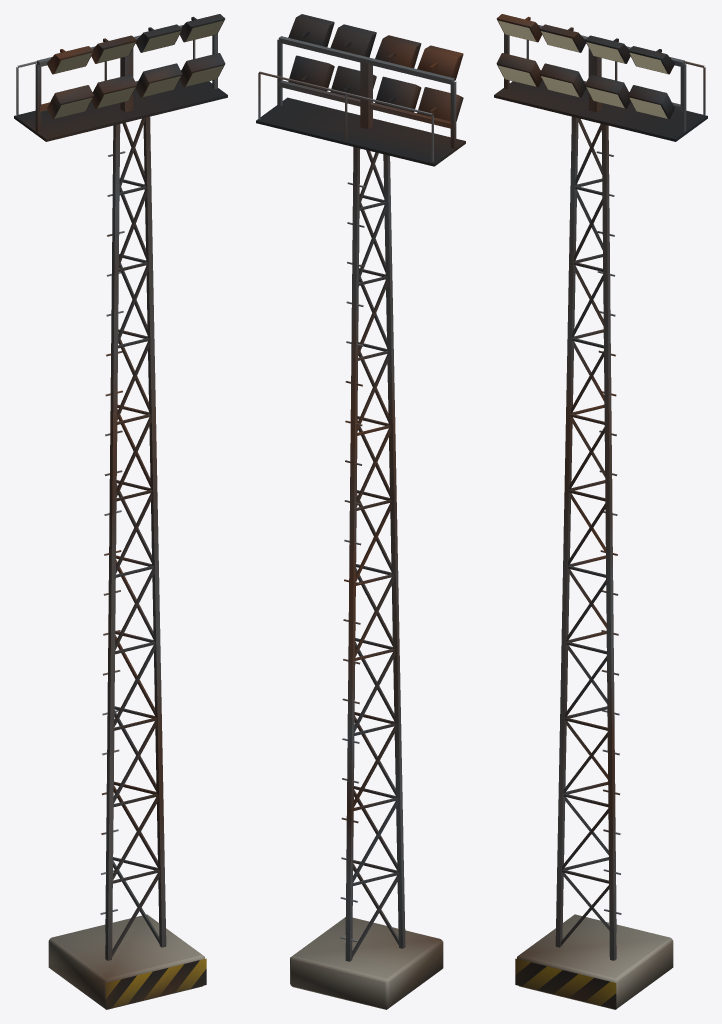
File: arena_light.glb
3 views of the same model, side by side, from view 1: azimuth 30°, elevation 25°; view 2: azimuth 150°, elevation 25°; view 3: azimuth 330°, elevation 25° (orthographic).
Visible parts, largest first — view 1: ArenaLight; view 2: ArenaLight; view 3: ArenaLight.
Part boxes in pixels (x1,y1,x2,y2): ArenaLight: (14, 14, 227, 1009); ArenaLight: (256, 14, 465, 1009); ArenaLight: (494, 14, 707, 1009).
Bounding box in the file's own units: 3.6 × 18 × 2.
